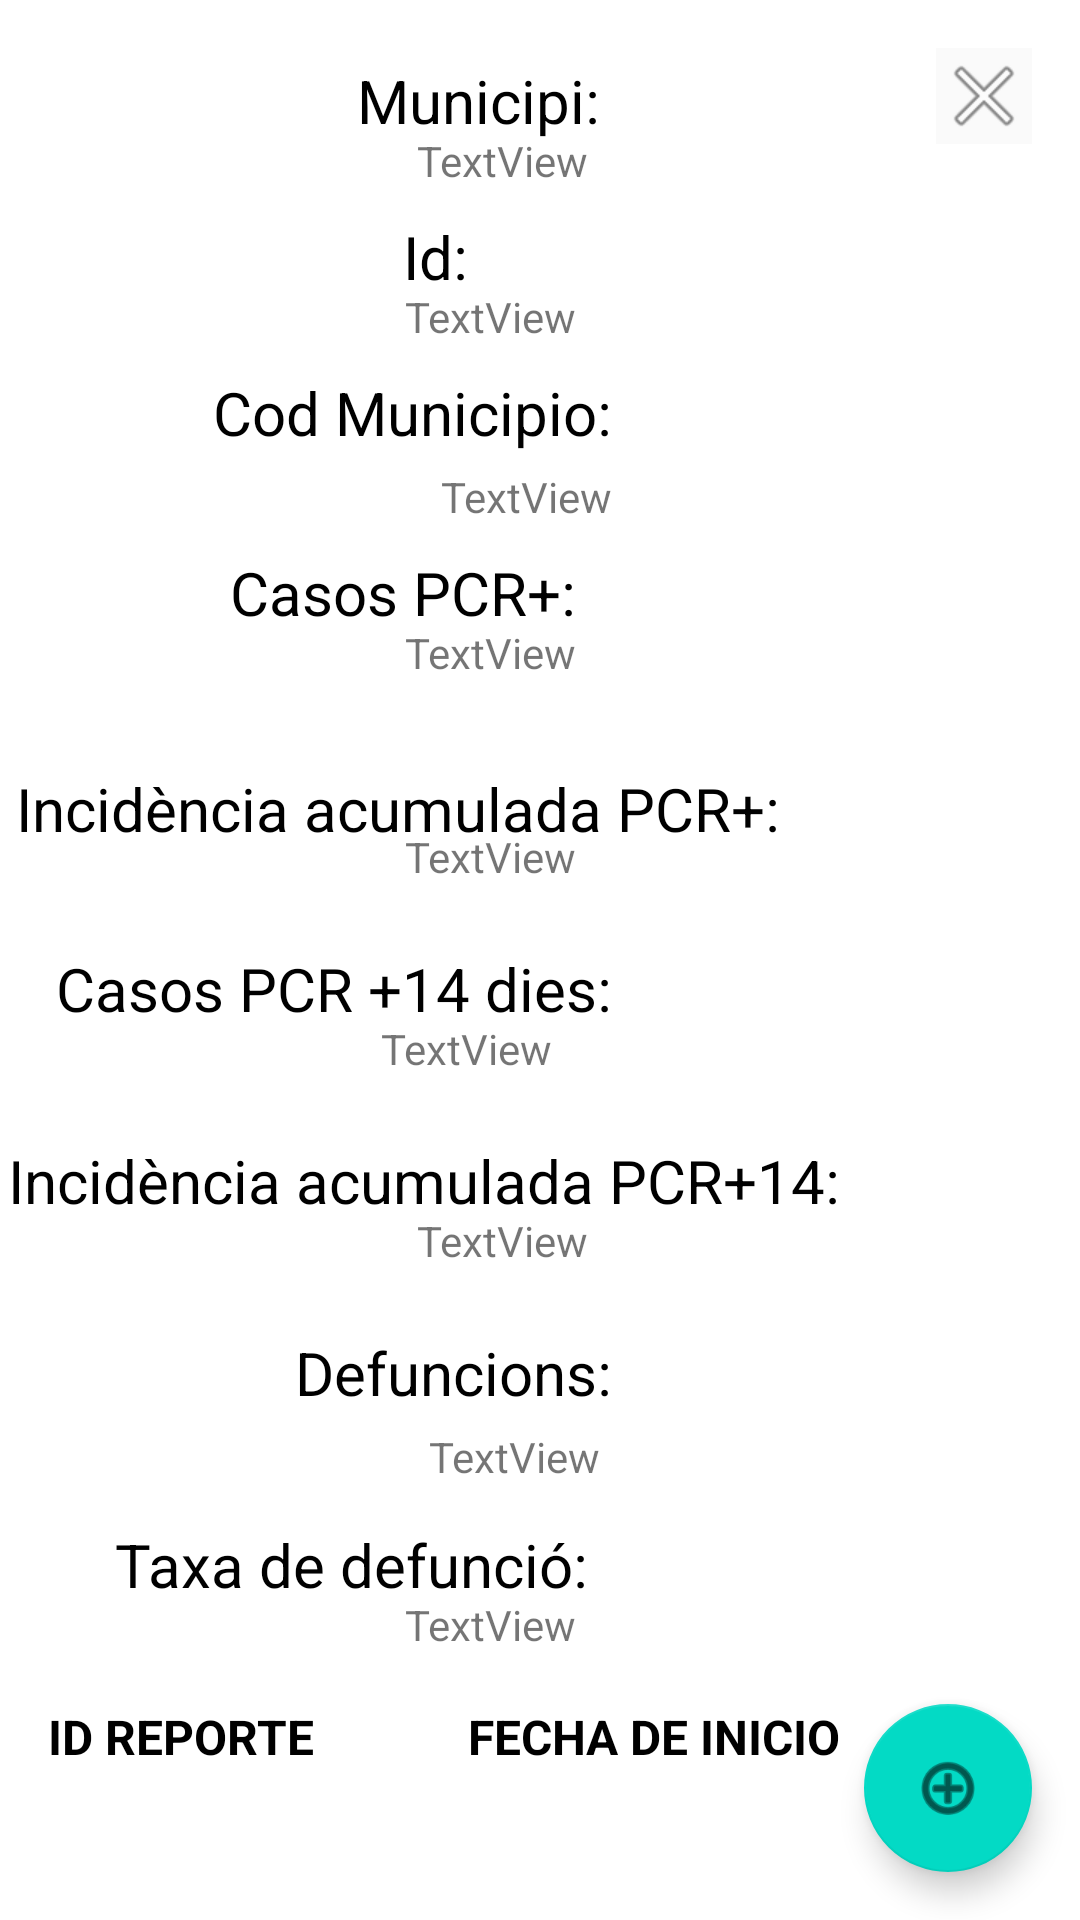

Screen size 1080*1920. Icon name, then its box in pixels as Rect(x1, y1, x2, y2):
add: Rect(864, 1704, 1032, 1872)
close clear cancel: Rect(954, 66, 1014, 126)
